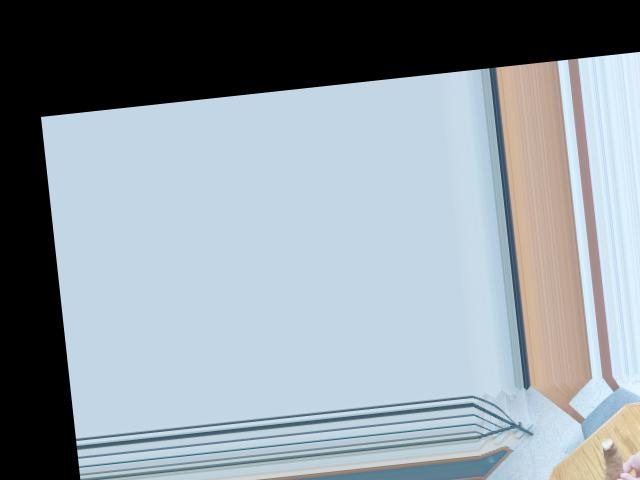sweet_potato: (602, 435, 624, 480)
